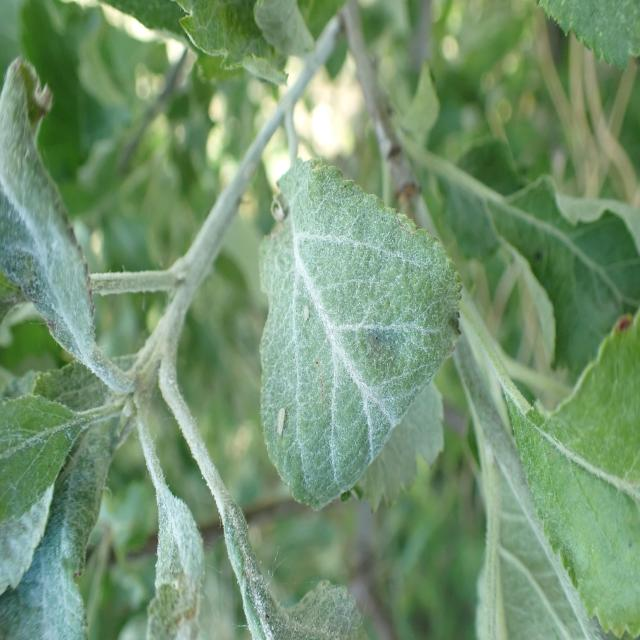Powdery_mildew: (251, 161, 461, 534), (0, 58, 147, 400), (214, 480, 375, 640), (0, 410, 104, 640), (0, 356, 111, 541), (137, 425, 221, 640)
